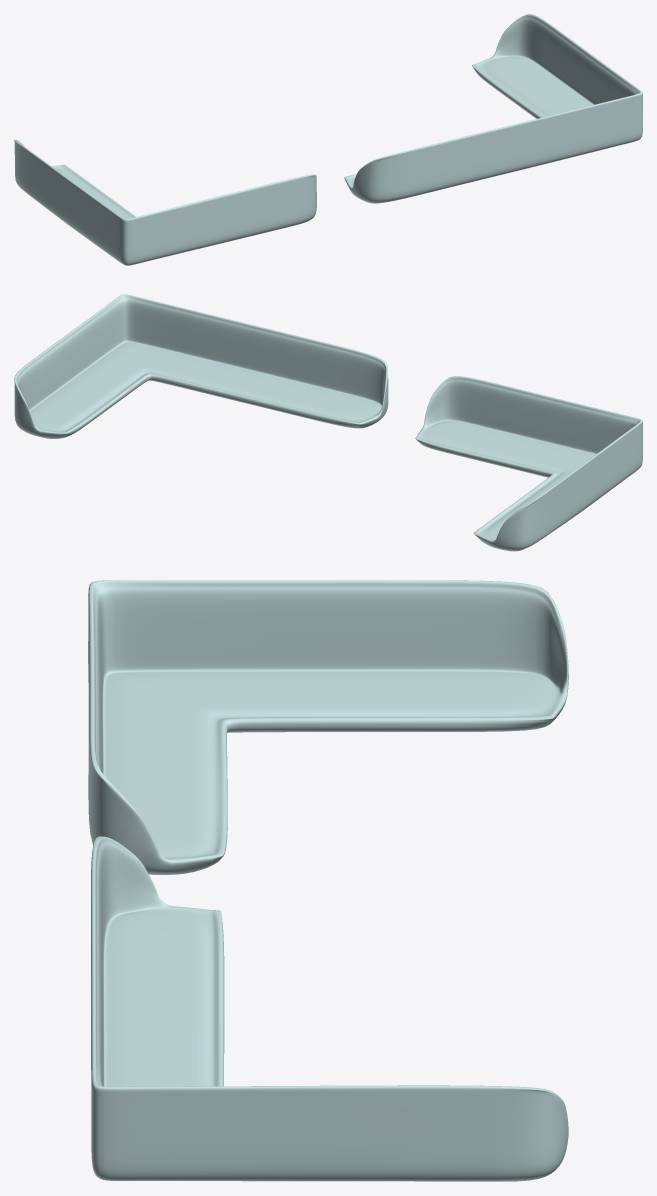
File: couch.fbx
The picture shows the model from 3 angles, top to bottom: view 1: azimuth 30°, elevation 25°; view 2: azimuth 150°, elevation 25°; view 3: azimuth 270°, elevation 25°; orthographic projection. The views are drawn at different scales.
Parts seen in each view (by area): view 1: couch Highpoly, couch 2 Highpoly; view 2: couch Highpoly, couch 2 Highpoly; view 3: couch 2 Highpoly, couch Highpoly.
Part boxes in pixels (box(x1,y1,x2,y2)): couch Highpoly: box(344, 14, 642, 203); couch 2 Highpoly: box(14, 139, 316, 265); couch Highpoly: box(14, 294, 388, 438); couch 2 Highpoly: box(415, 376, 642, 551); couch 2 Highpoly: box(88, 580, 568, 874); couch Highpoly: box(91, 836, 568, 1181).
Size of what is drawn, in the model's own units: 844 by 84.38 by 337.
